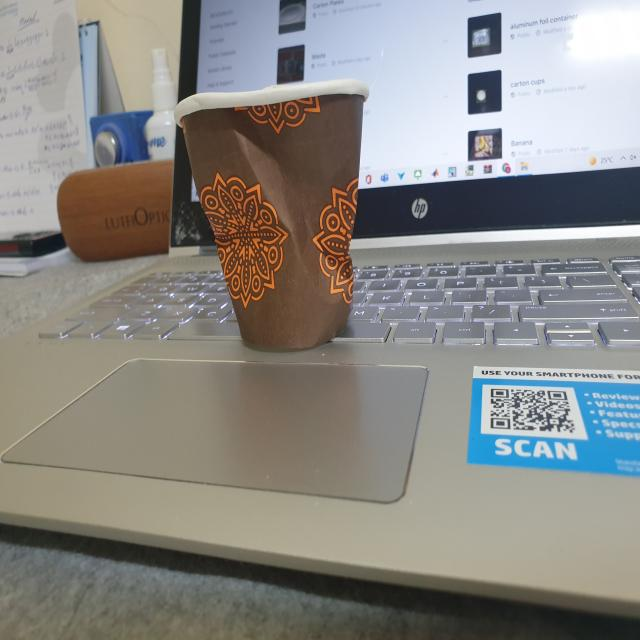cups: (165, 65, 376, 364)
